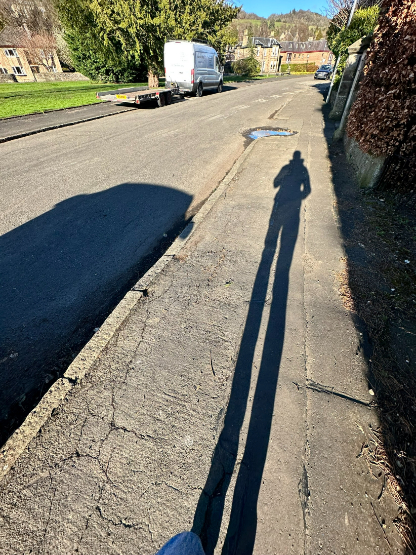car: (159, 36, 228, 96), (314, 62, 335, 83)
tree: (43, 2, 161, 79)
